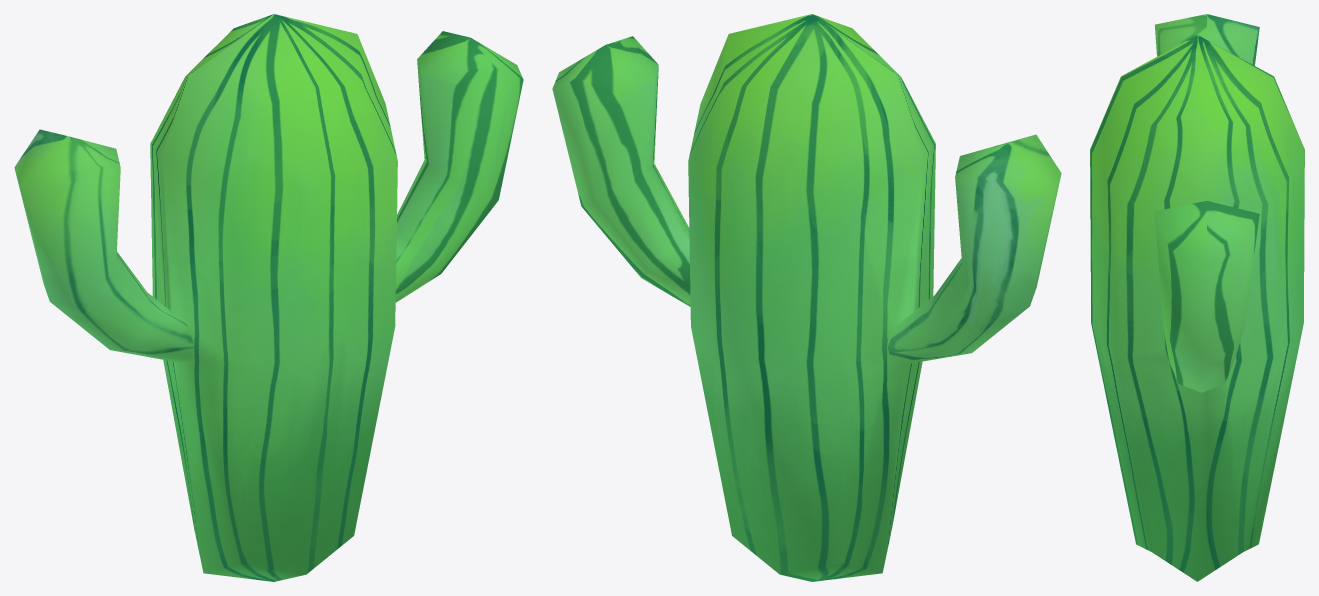
File: cactus.glb
The picture shows the model from 3 angles, left to right: view 1: azimuth 30°, elevation 25°; view 2: azimuth 150°, elevation 25°; view 3: azimuth 270°, elevation 25°; orthographic projection. The views are drawn at different scales.
Visible parts, largest first — view 1: Cube; view 2: Cube; view 3: Cube.
Boxes of the visible parts, left/top/right/bottom form: Cube: left=14, top=14, right=523, bottom=581; Cube: left=552, top=14, right=1061, bottom=581; Cube: left=1090, top=14, right=1304, bottom=581.
Size of the model in its own units: 7.65 by 8.37 by 3.02.
1 material, 1 textured.
